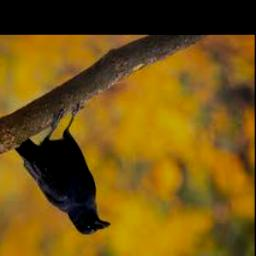Crow: (13, 101, 111, 235)
